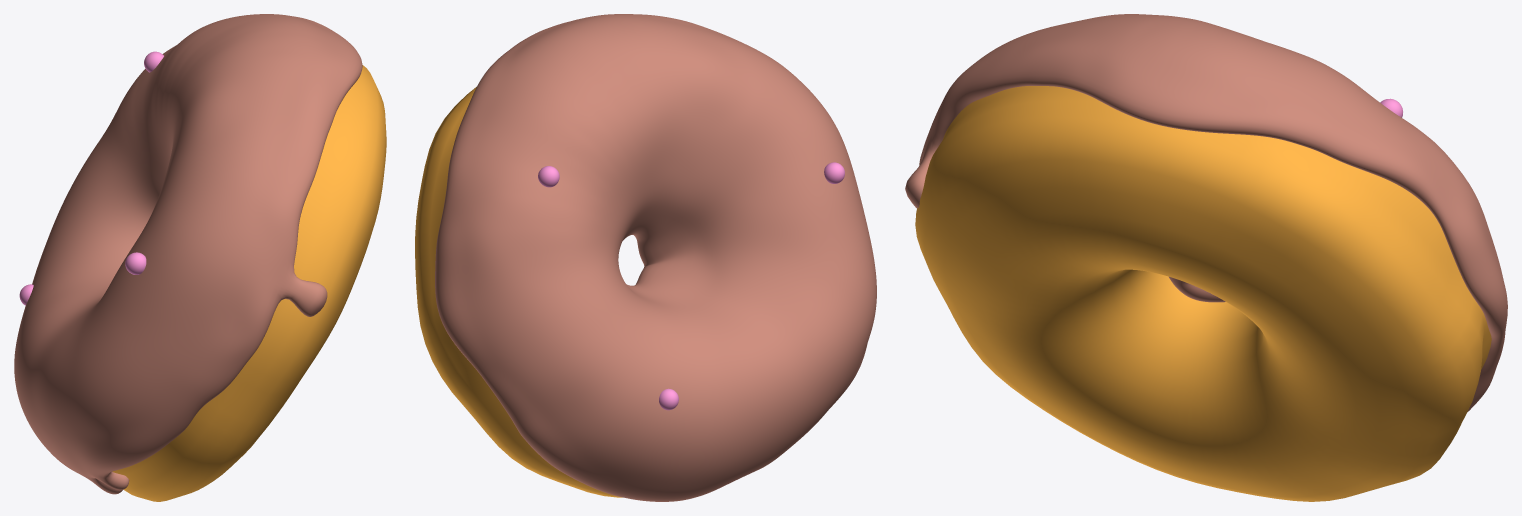
The model's file is donut.fbx.
The picture shows the model from 3 angles, left to right: view 1: azimuth 30°, elevation 25°; view 2: azimuth 150°, elevation 25°; view 3: azimuth 270°, elevation 25°; orthographic projection. The views are drawn at different scales.
Parts seen in each view (by area): view 1: Icing, Donut; view 2: Icing, Donut; view 3: Donut, Icing.
Boxes of the visible parts, x1,y1,x2,y2 form: Icing: [14, 14, 362, 494]; Donut: [112, 65, 386, 501]; Icing: [435, 14, 876, 501]; Donut: [415, 86, 622, 497]; Donut: [915, 86, 1491, 501]; Icing: [905, 14, 1507, 411].
Size of the model in its own units: 837 by 969 by 1018.
